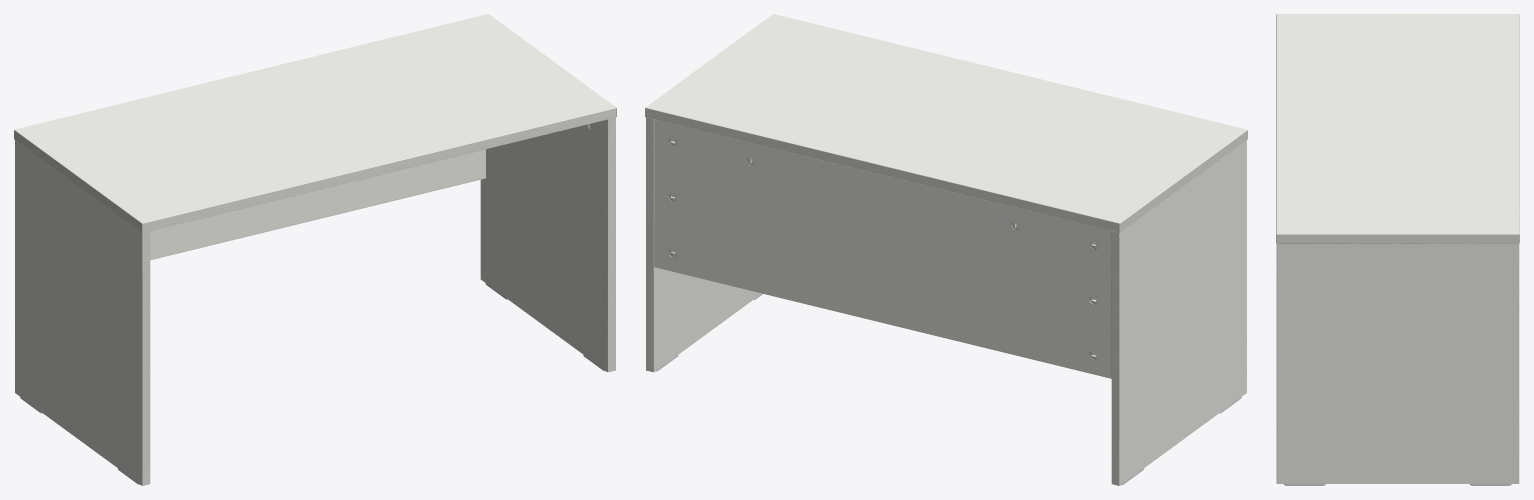
Rendered from lastare_awka_70615665.glb.
3 views of the same model, side by side, from view 1: azimuth 30°, elevation 25°; view 2: azimuth 150°, elevation 25°; view 3: azimuth 270°, elevation 25° (orthographic). The views are drawn at different scales.
Parts seen in each view (by area): view 1: lastare_awka_70615665; view 2: lastare_awka_70615665; view 3: lastare_awka_70615665.
Boxes of the visible parts, box(x1,y1,x2,y2) form: lastare_awka_70615665: box(14, 14, 616, 485); lastare_awka_70615665: box(645, 14, 1247, 485); lastare_awka_70615665: box(1276, 14, 1519, 485).
Bounding box in the file's own units: 0.898 × 0.48 × 0.42.
1 material, 1 textured.
